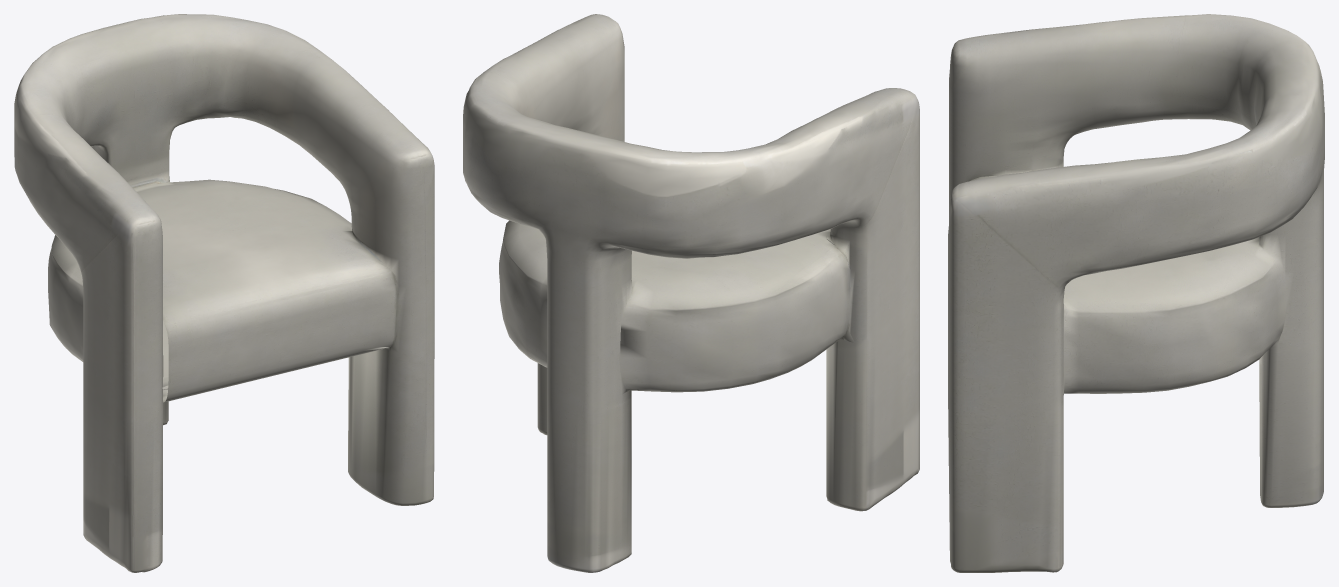
Rendered from Glam_Dining_Chair_0404021817_texture.glb.
The picture shows the model from 3 angles, left to right: view 1: azimuth 30°, elevation 25°; view 2: azimuth 150°, elevation 25°; view 3: azimuth 270°, elevation 25°; orthographic projection. The views are drawn at different scales.
Parts seen in each view (by area): view 1: Mesh_0.002; view 2: Mesh_0.002; view 3: Mesh_0.002.
Part boxes in pixels (x1,y1,x2,y2): Mesh_0.002: (14, 14, 434, 572); Mesh_0.002: (463, 14, 919, 572); Mesh_0.002: (948, 14, 1324, 572).
Bounding box in the file's own units: 0.6759 × 0.8128 × 0.6593.
1 material, 1 textured.
